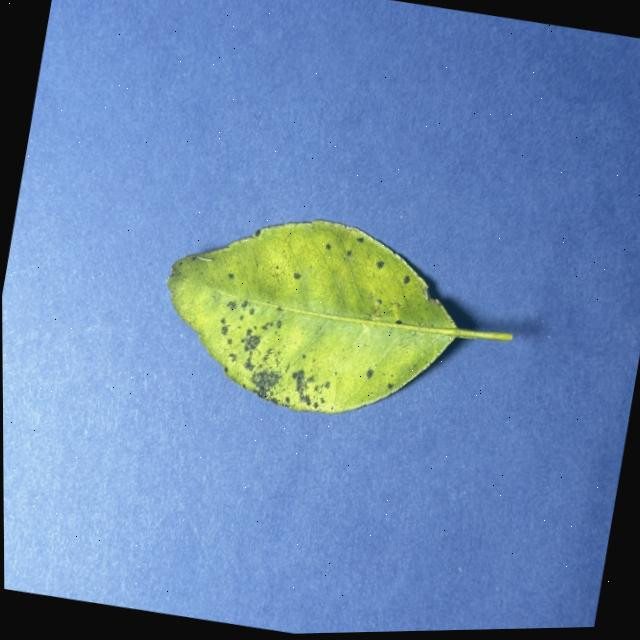sooty_mold: (168, 219, 511, 411)
